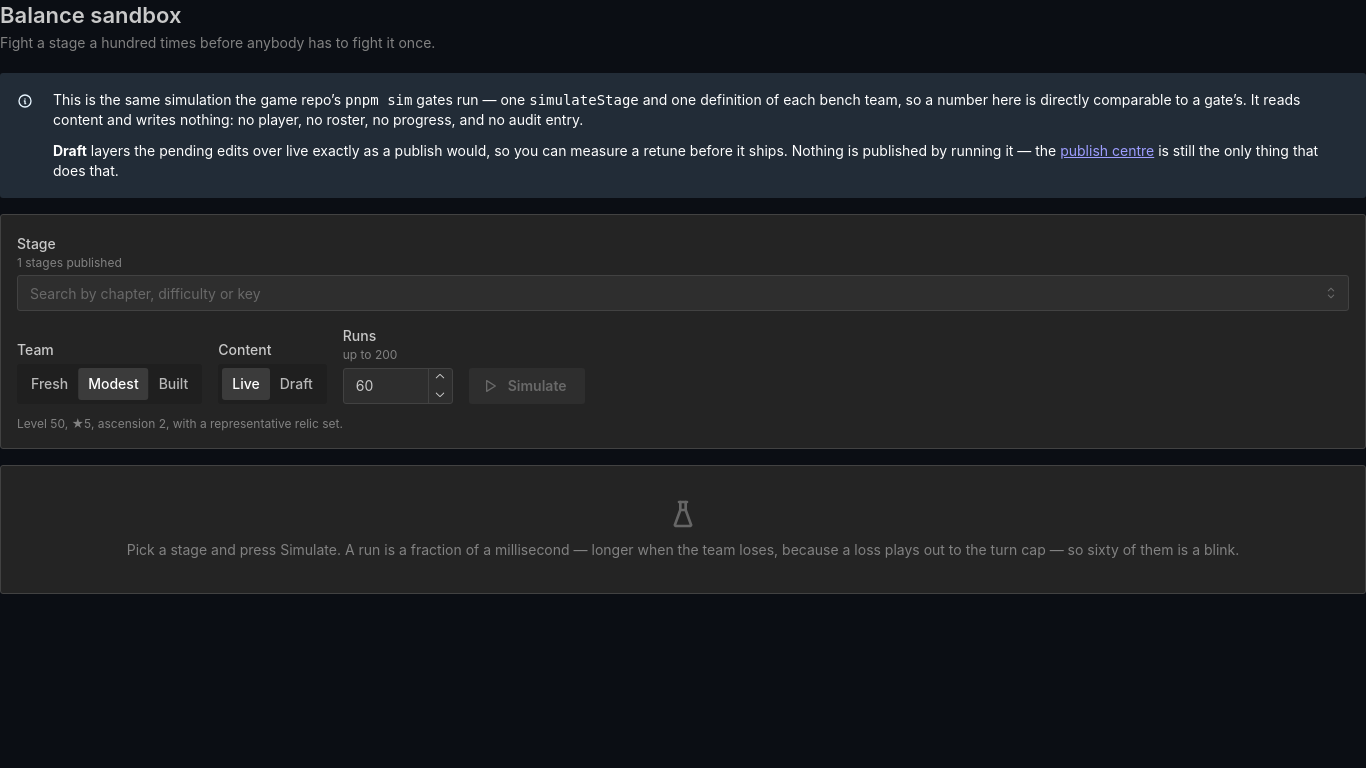
Test: the balance sandbox › says nothing was won rather than reporting an average of no numbers
Click the field labelled "Stage" at [683, 294], box top-left (17, 276), bottom-right (1349, 312)
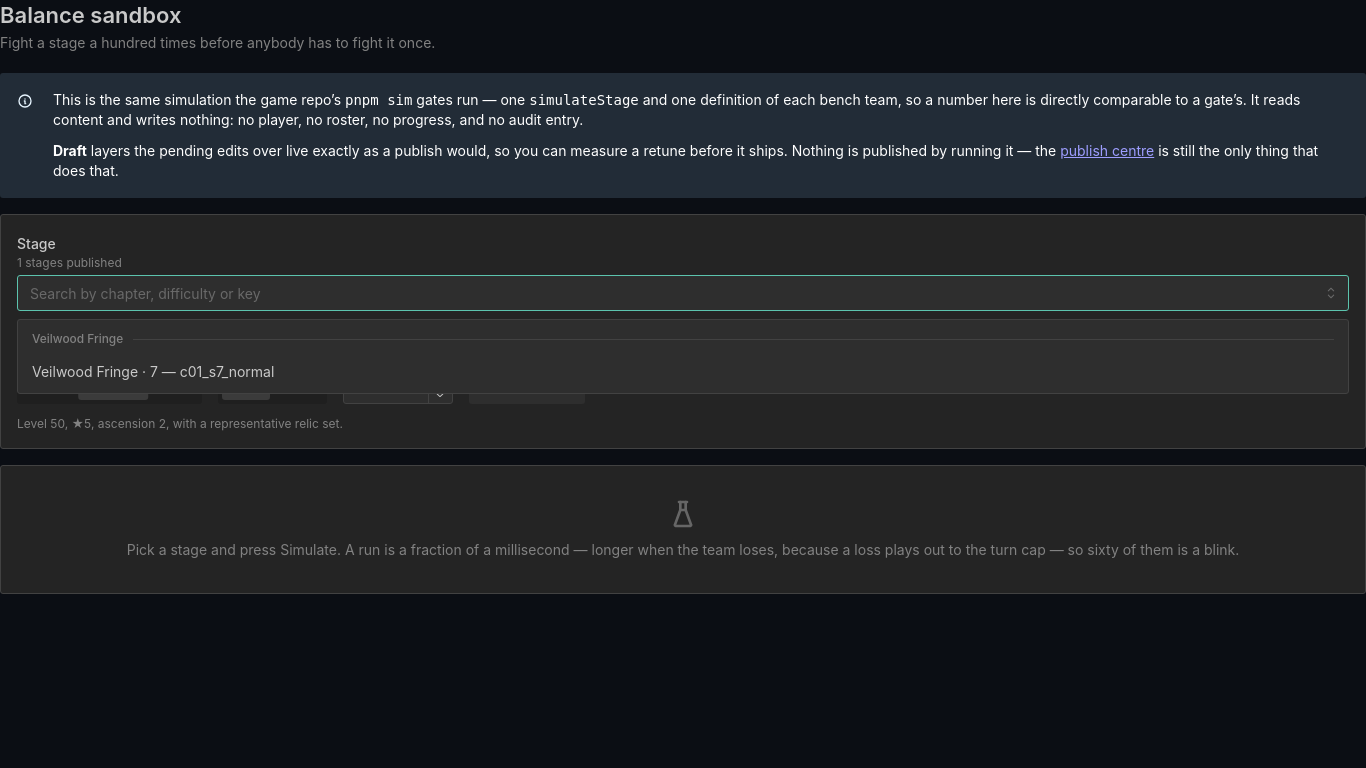
Click the option "Veilwood Fringe · 7 — c01_s7_normal" at [153, 371], box top-left (32, 363), bottom-right (274, 380)
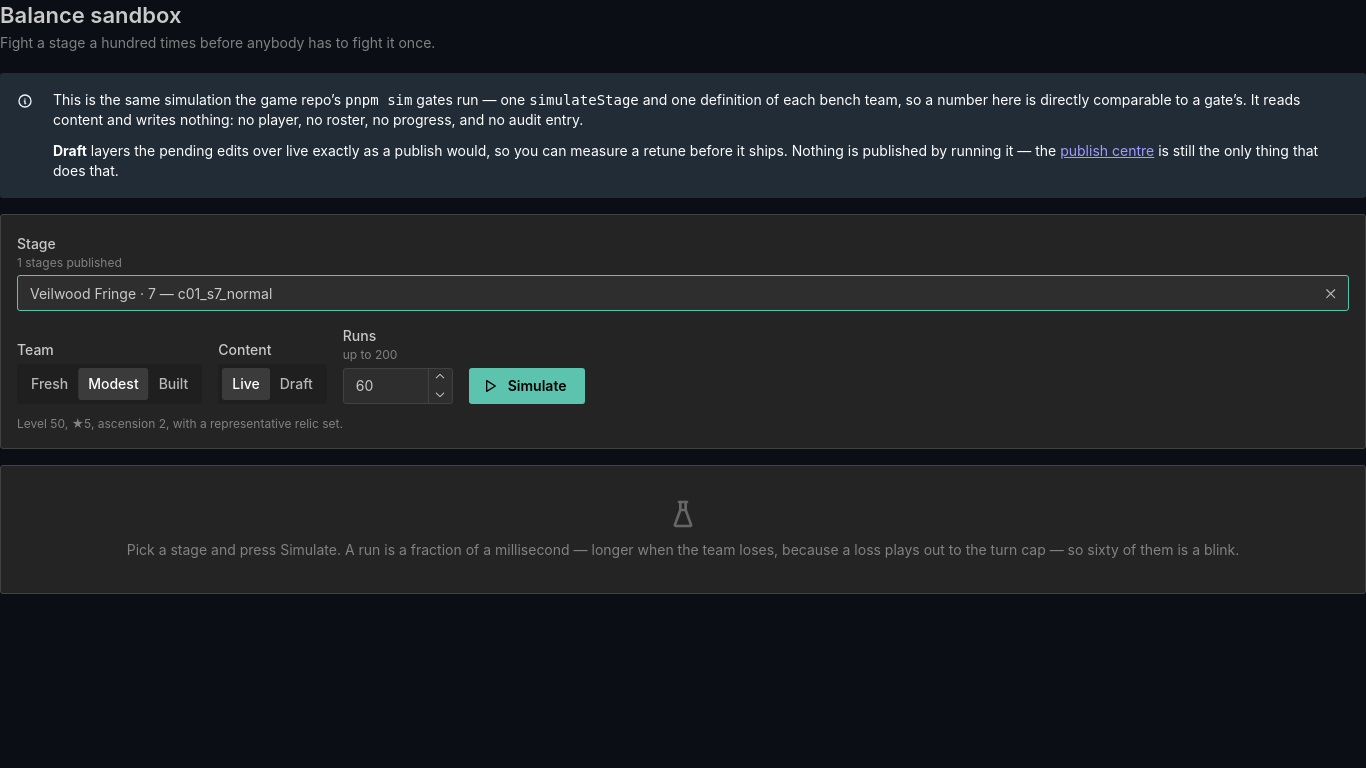
Click the button "Simulate" at [527, 386], box top-left (469, 368), bottom-right (585, 404)
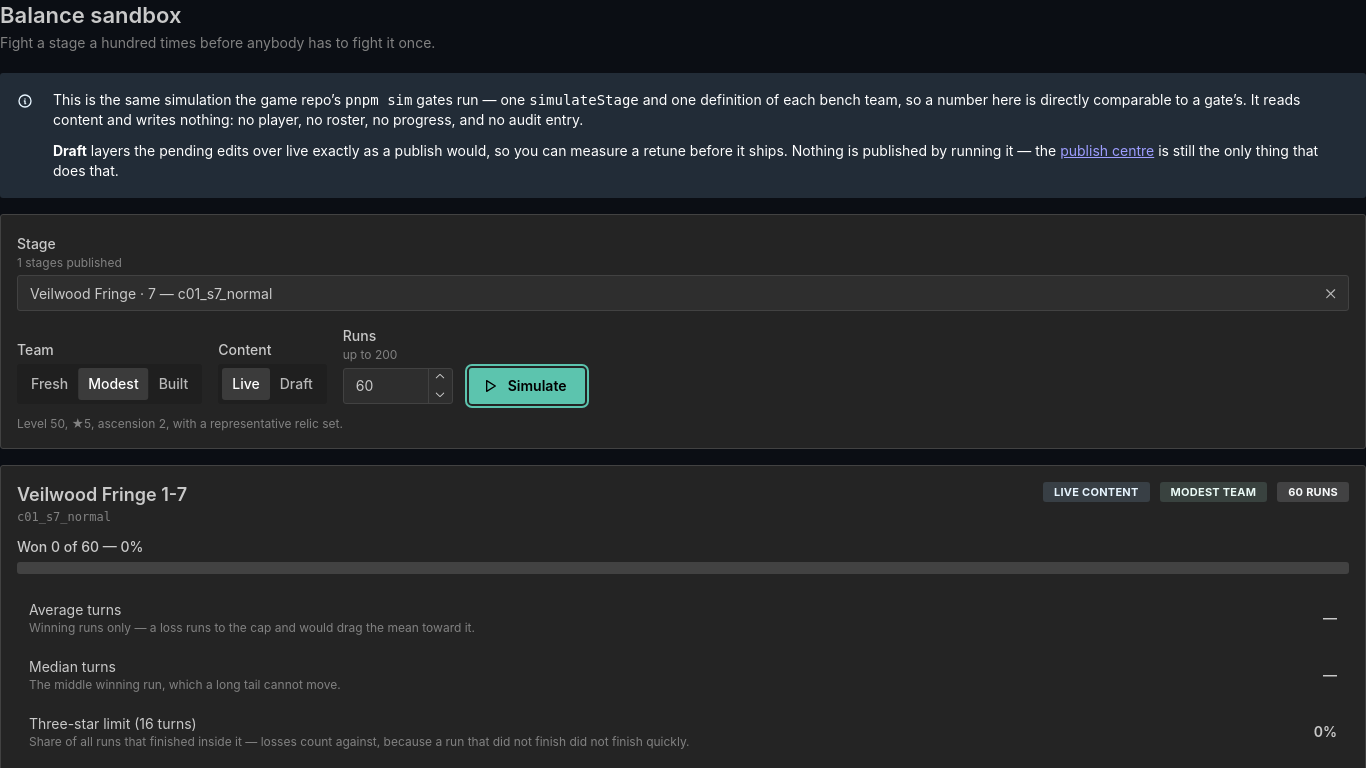
Result: the text "Won 0 of 60 — 0%" is shown at top-left (17, 538), bottom-right (144, 555)
